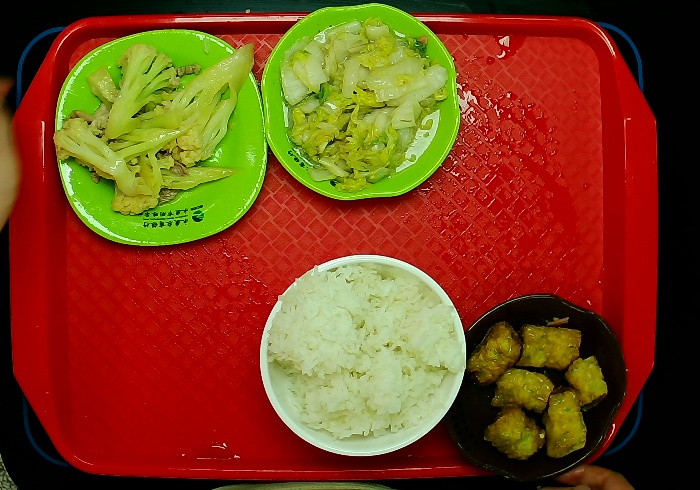YKMZ-Fan_Wan: (246, 239, 474, 470)
YKMZ-Ka_Fei_Ao_Bian_Wan: (442, 289, 631, 487)
YKMZ-Lv_Se_Ao_Bian_Wan: (249, 1, 471, 215)
YKMZ-Lv_Se_Fang_Die: (48, 20, 276, 250)
